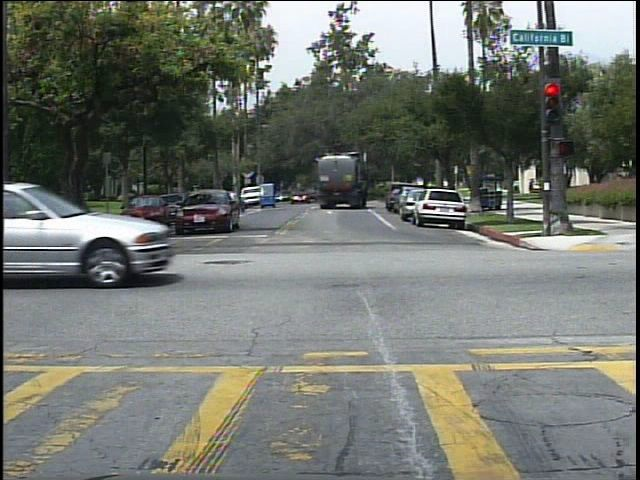person: (510, 178, 523, 197)
